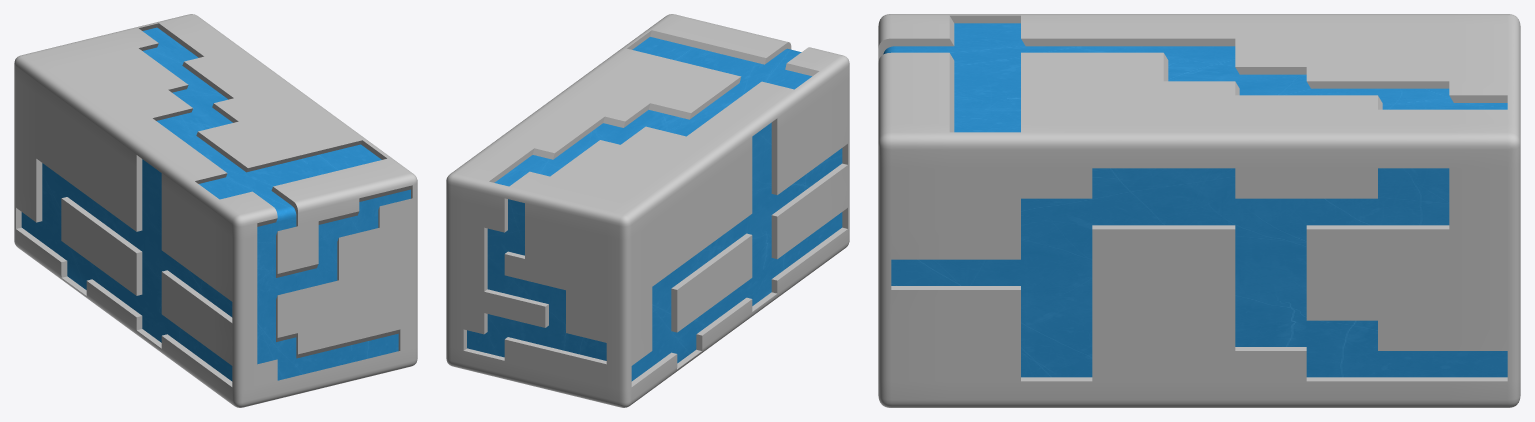
File: Cyber_Rect.fbx
3 views of the same model, side by side, from view 1: azimuth 30°, elevation 25°; view 2: azimuth 150°, elevation 25°; view 3: azimuth 270°, elevation 25° (orthographic). The views are drawn at different scales.
Parts seen in each view (by area): view 1: Box001; view 2: Box001; view 3: Box001.
Part boxes in pixels (x1=…): Box001: x1=14, y1=14, x2=417, y2=407; Box001: x1=446, y1=14, x2=849, y2=407; Box001: x1=878, y1=14, x2=1520, y2=407.
Bounding box in the file's own units: 27.54 × 27.52 × 58.52.
7 materials, 1 textured.
